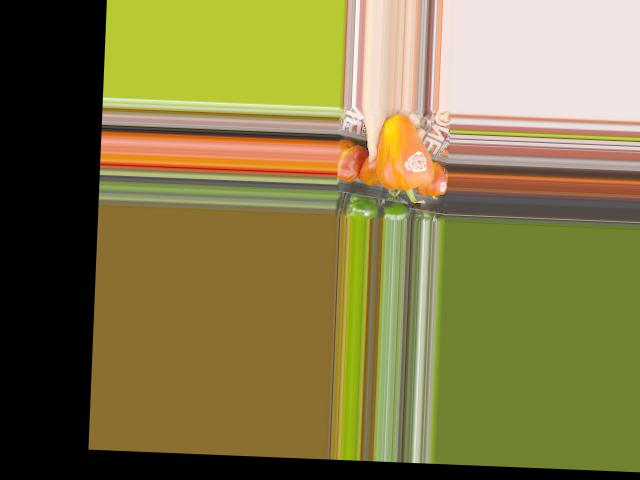bell_pepper: (368, 114, 438, 204)
